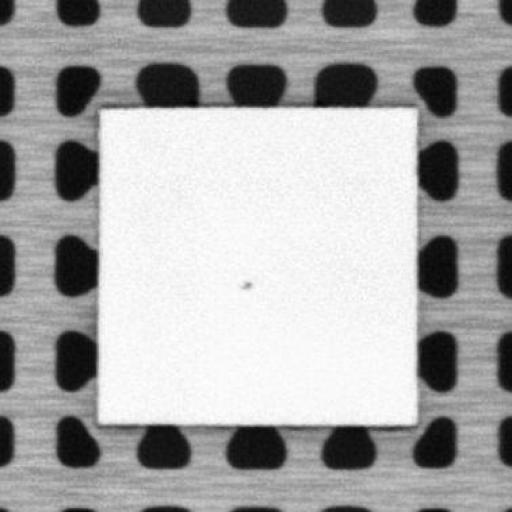DIE_INK: (238, 277, 252, 292)
